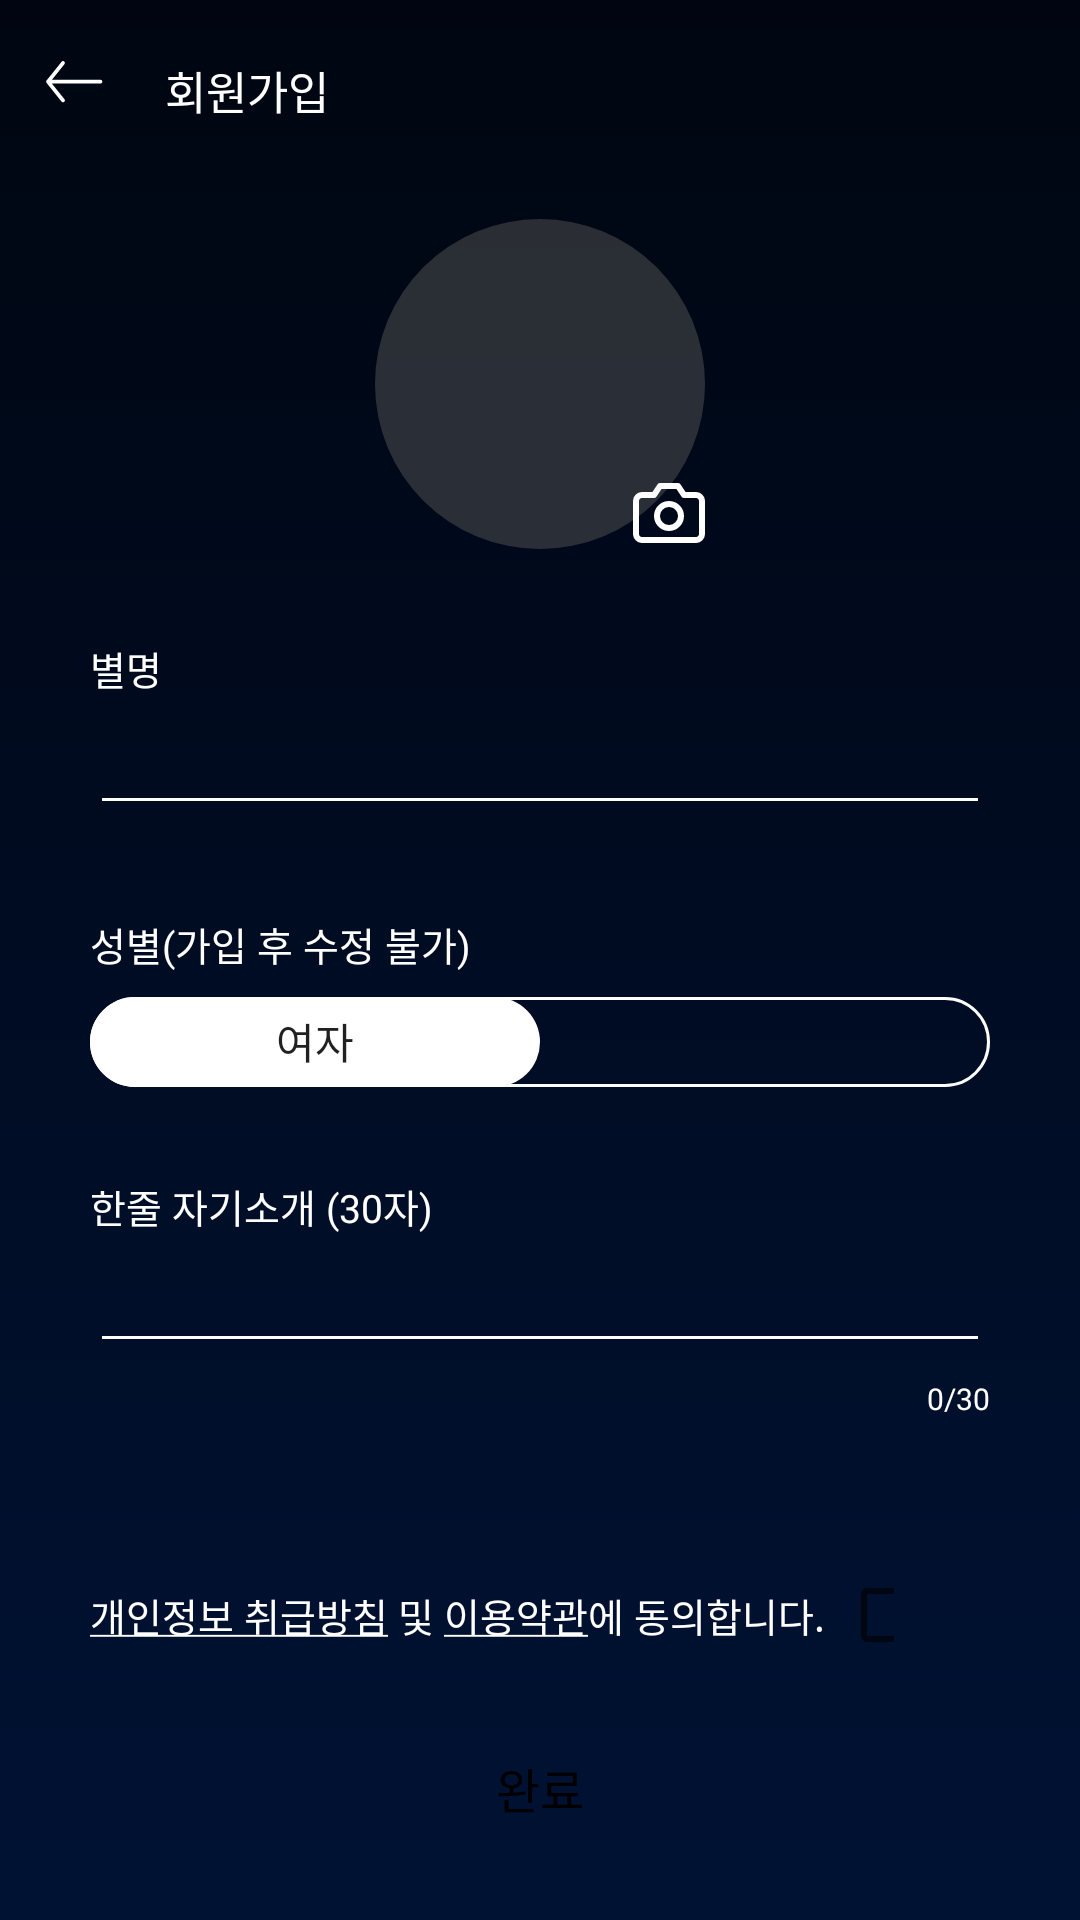

Screen size 1080 × 1920. Icon name, then its center in pixels as (x,y):
back: (74,82)
camera: (669,510)
